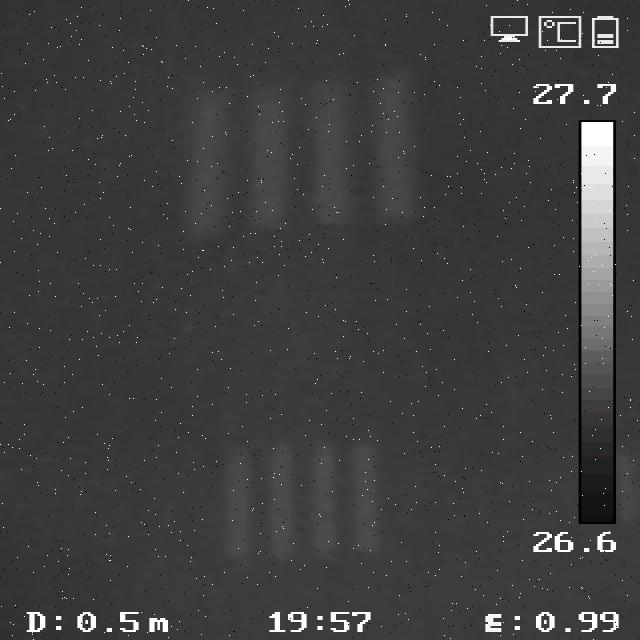Distinguishable 4-bar target: (185, 85, 408, 229), (217, 436, 384, 560)
